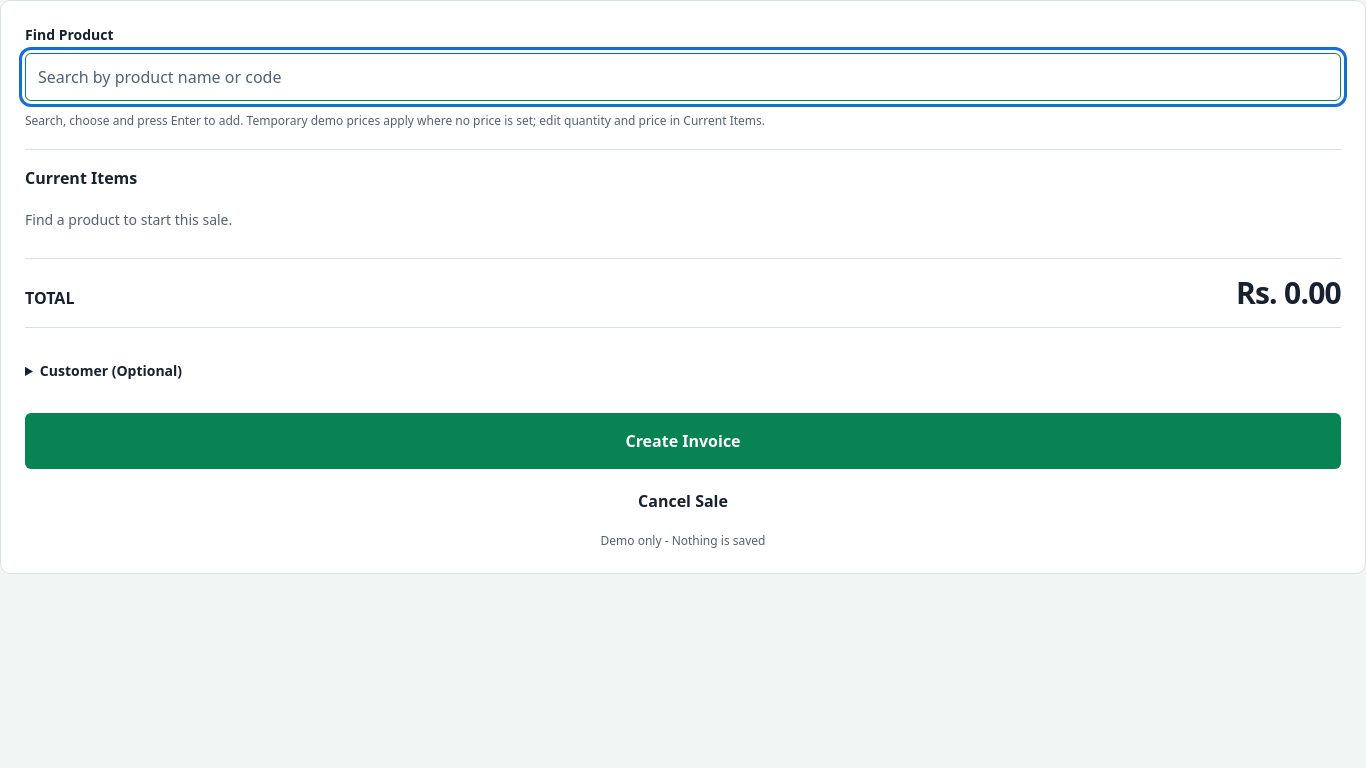
Test case: omits empty customer and payment rows, never marks unknown payment as Paid and allows printing
Type "dia" into the dropdown labelled "Find Product" at (683, 77), box [25,53,1341,101]
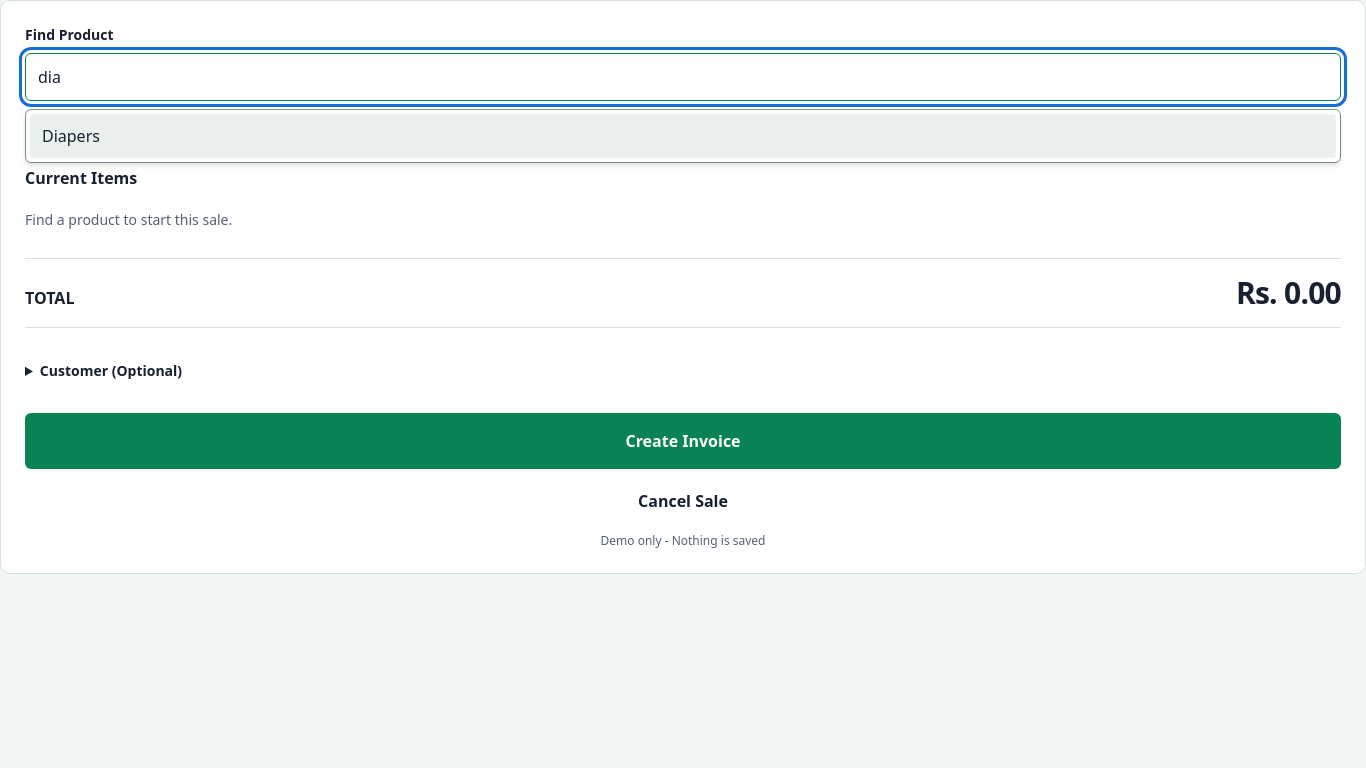
Press Enter in the dropdown labelled "Find Product", box [25,53,1341,101]
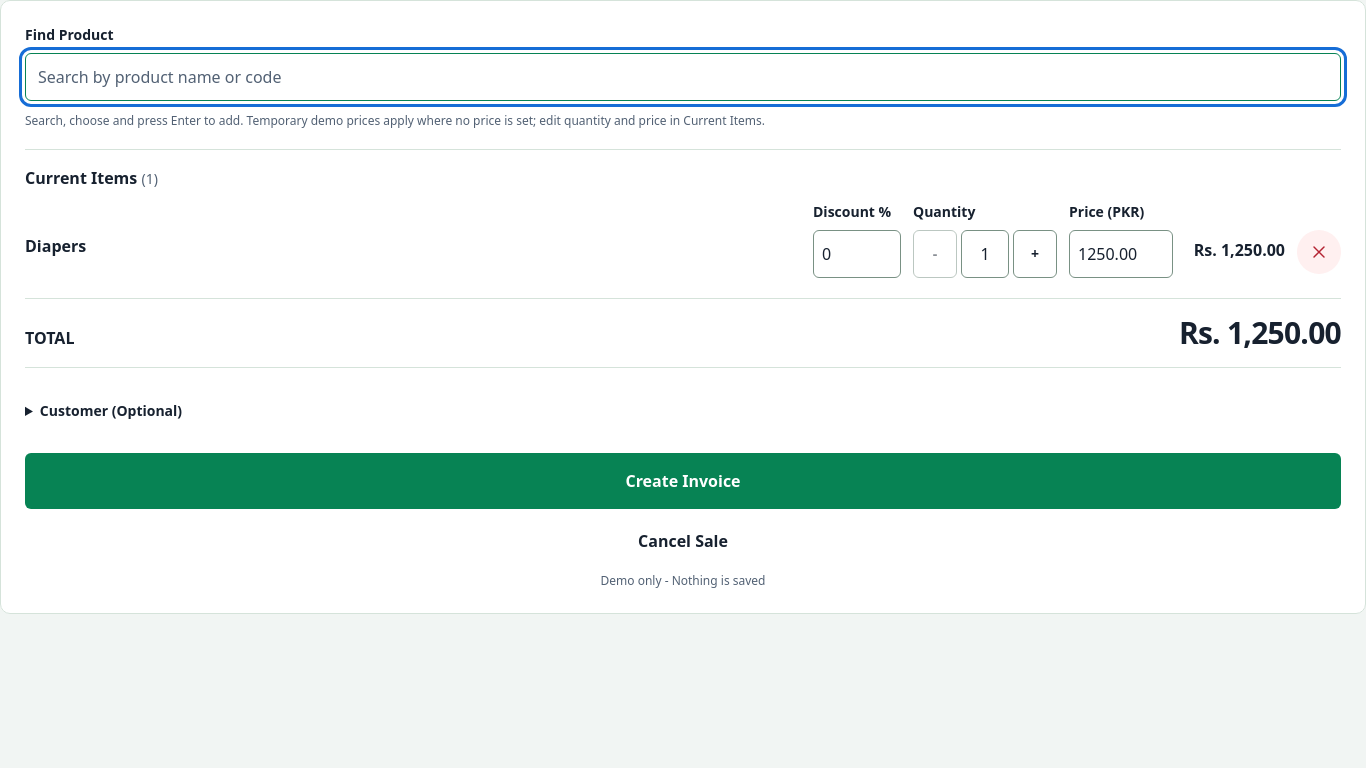
Replace the text in the field named "Diapers quantity, item 1" with "2" at (985, 254), box [961,230,1009,278]
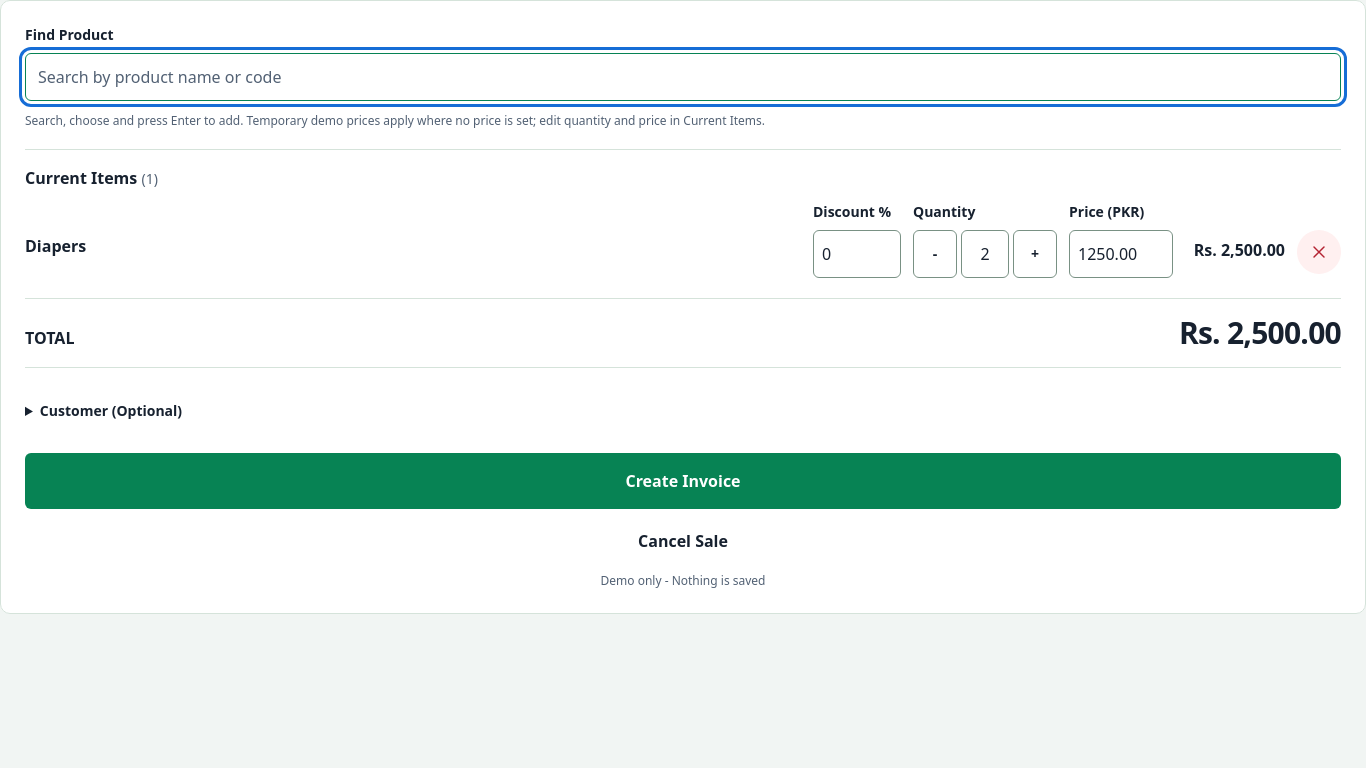
Replace the text in the field named "Diapers price (PKR), item 1" with "1250.25" at (1121, 254), box [1069,230,1173,278]
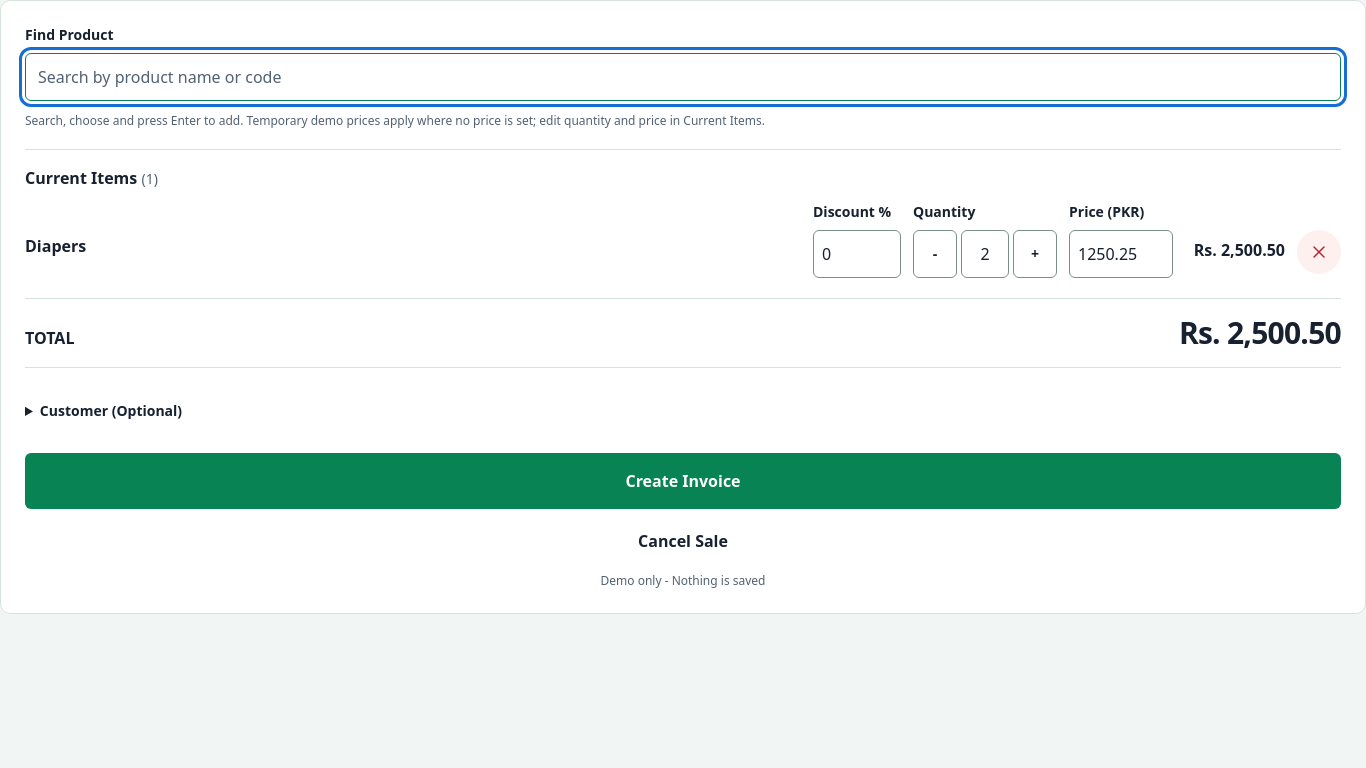
Clear the field named "Diapers discount (%), item 1" at (857, 254), box [813,230,901,278]
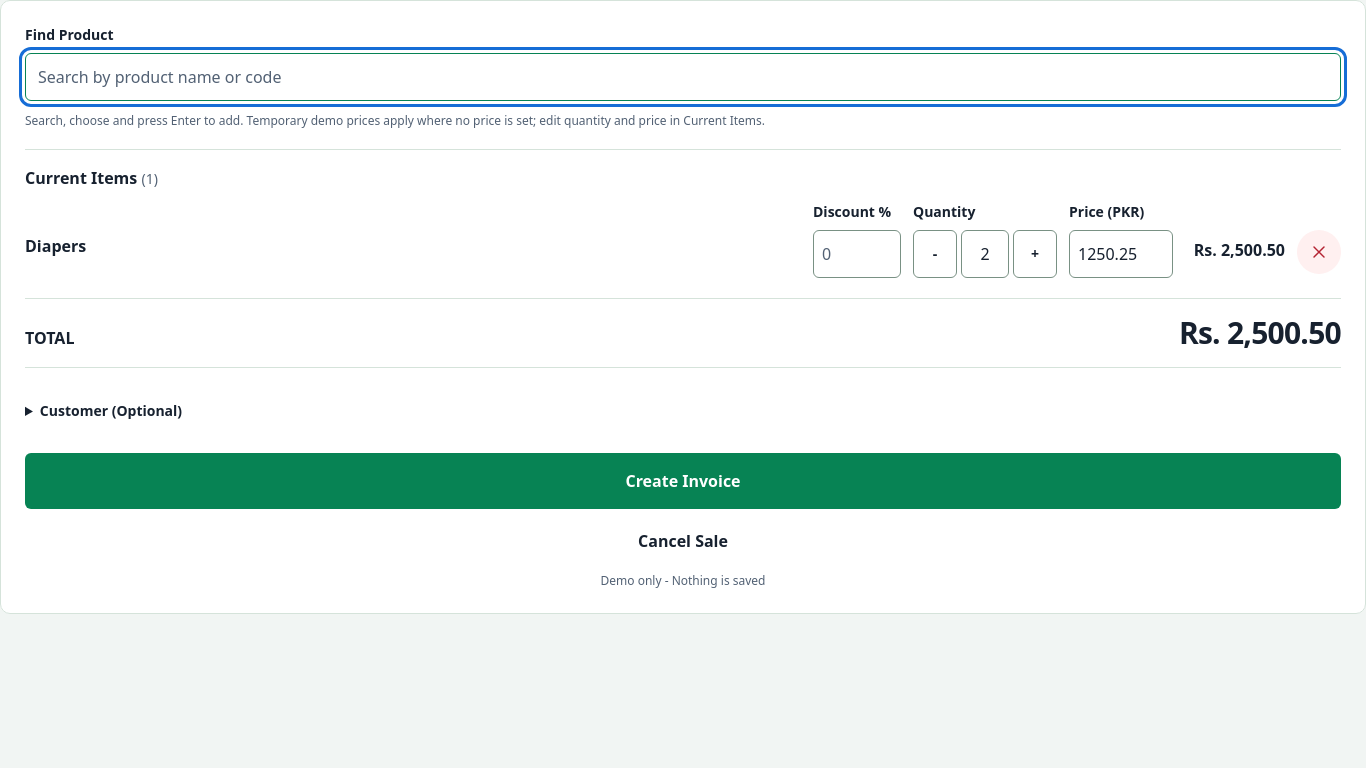
Click the button "Create Invoice" at (683, 481), box [25,453,1341,509]
(page scrolled)
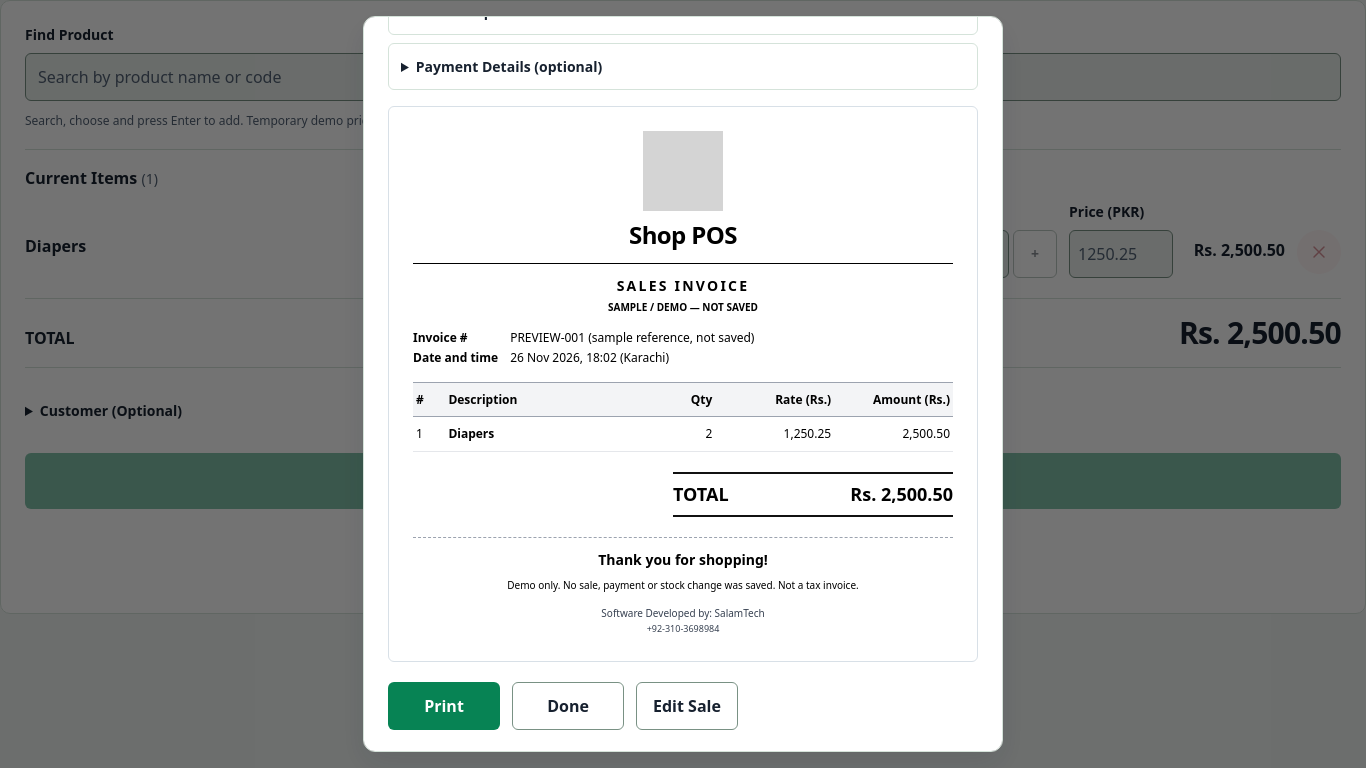
Now the button "Print" is enabled, box [388,682,500,730]
Now the element with class "receipt-sheet" shows "Software Developed by: SalamTech", box [601,606,765,620]
